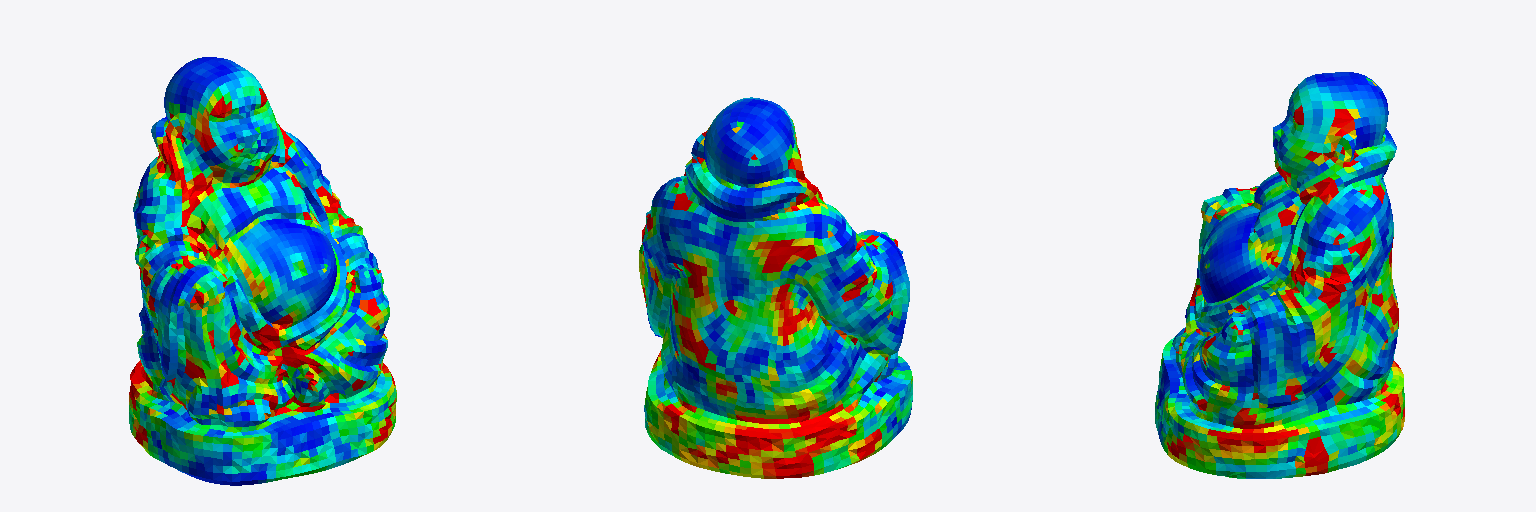
File: buddha_no_opt_quality.obj
3 renders of one model, left to right at view 1: azimuth 30°, elevation 25°; view 2: azimuth 150°, elevation 25°; view 3: azimuth 270°, elevation 25°, orthographic.
Size of the model in its own units: 0.7026 by 0.9994 by 0.6582.